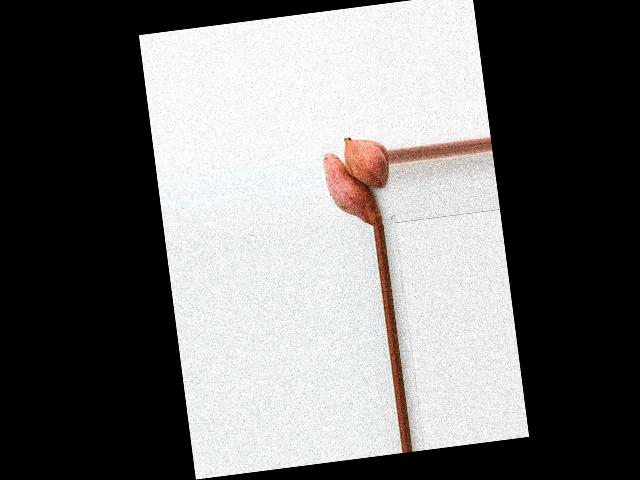sweet_potato: (345, 132, 386, 188)
